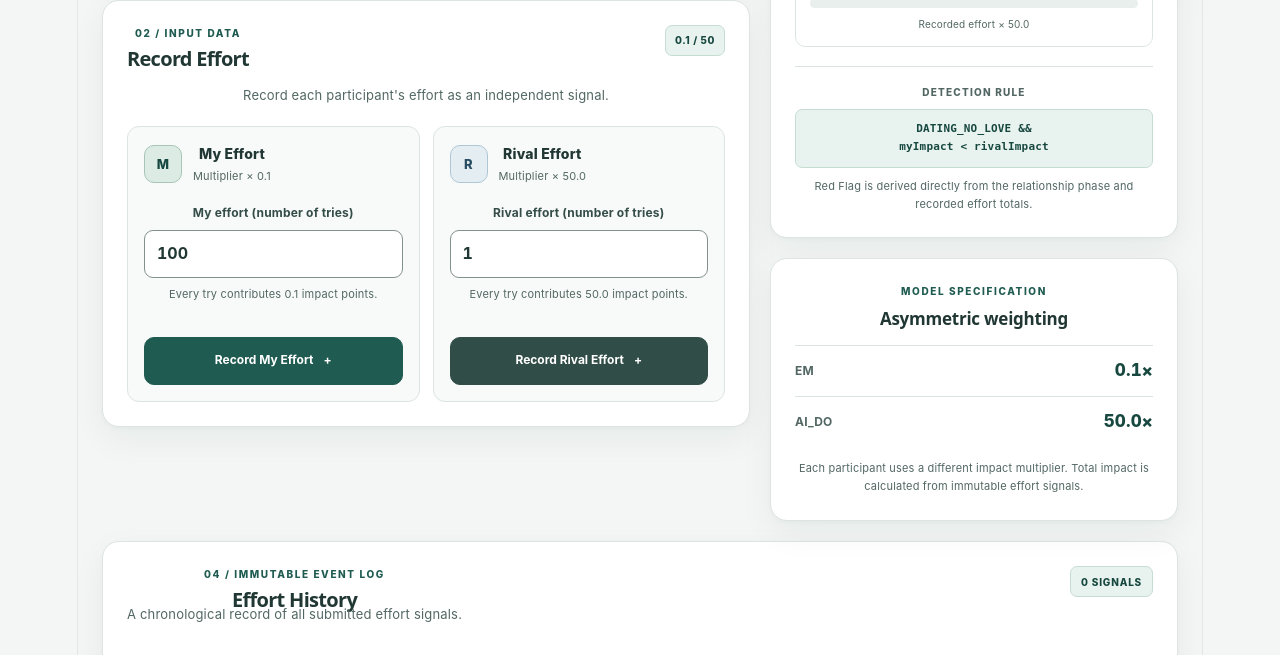
it: SituationshipAnalyzer › automatically exits after the 5-second ghosting timeout
(page scrolled)
# The first effort signal starts the timer.
Click the button "Record My Effort +": (273, 361) [144,337,402,385]
Wait 5000 ms
(page scrolled)
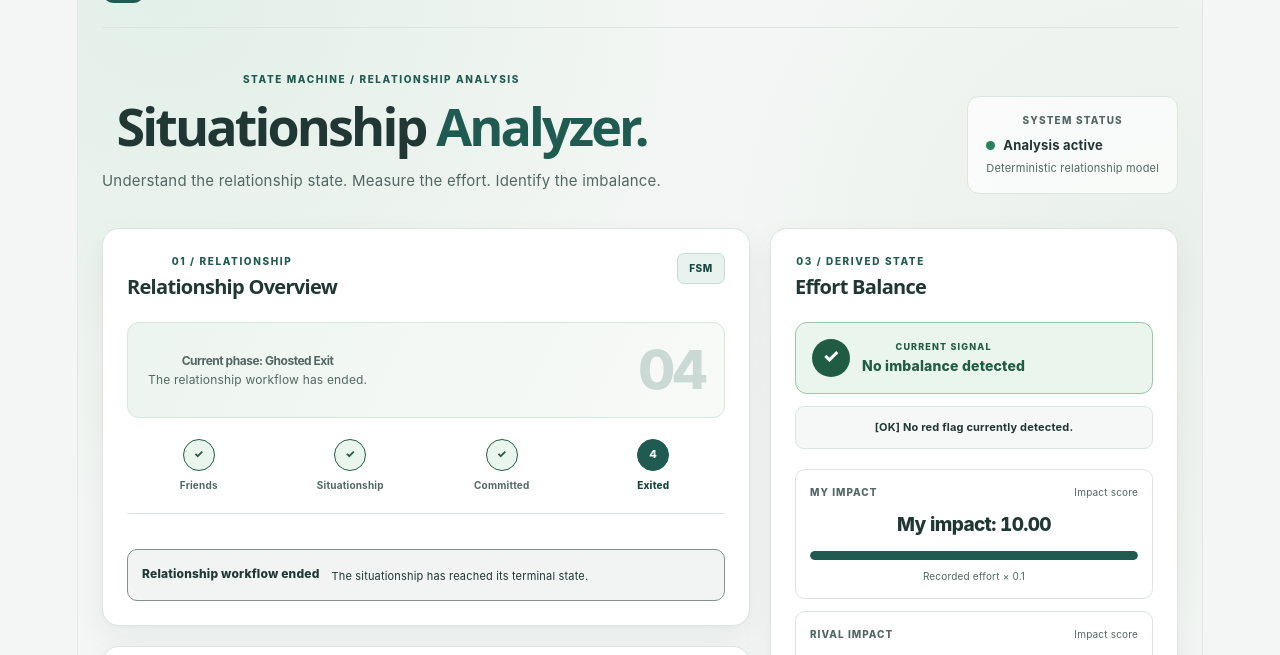
expect the text "Current phase: Ghosted Exit" is shown: met, box [182,352,334,368]
